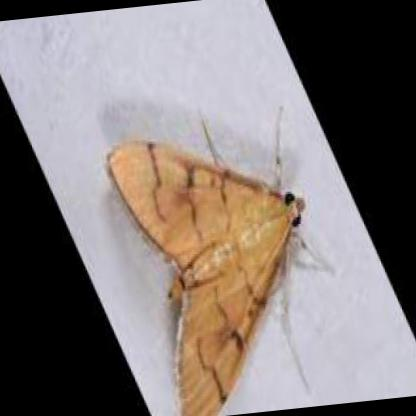Leaf Webber: (105, 137, 307, 416)
